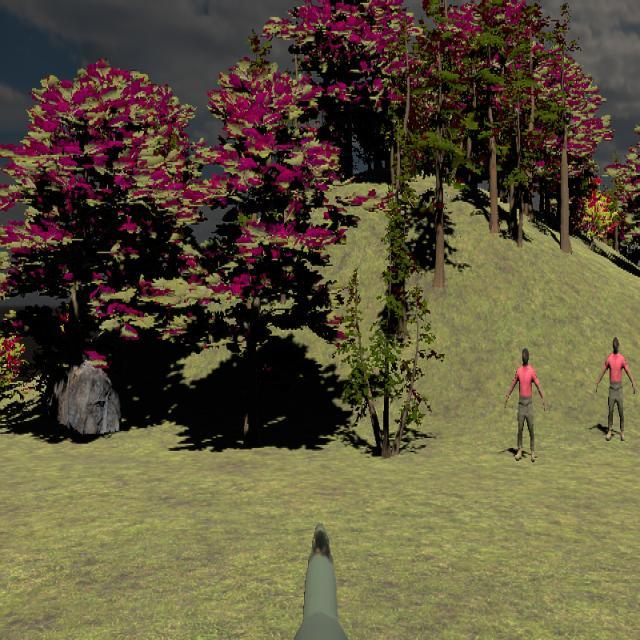Human: (504, 347, 545, 462), (595, 337, 636, 442)
